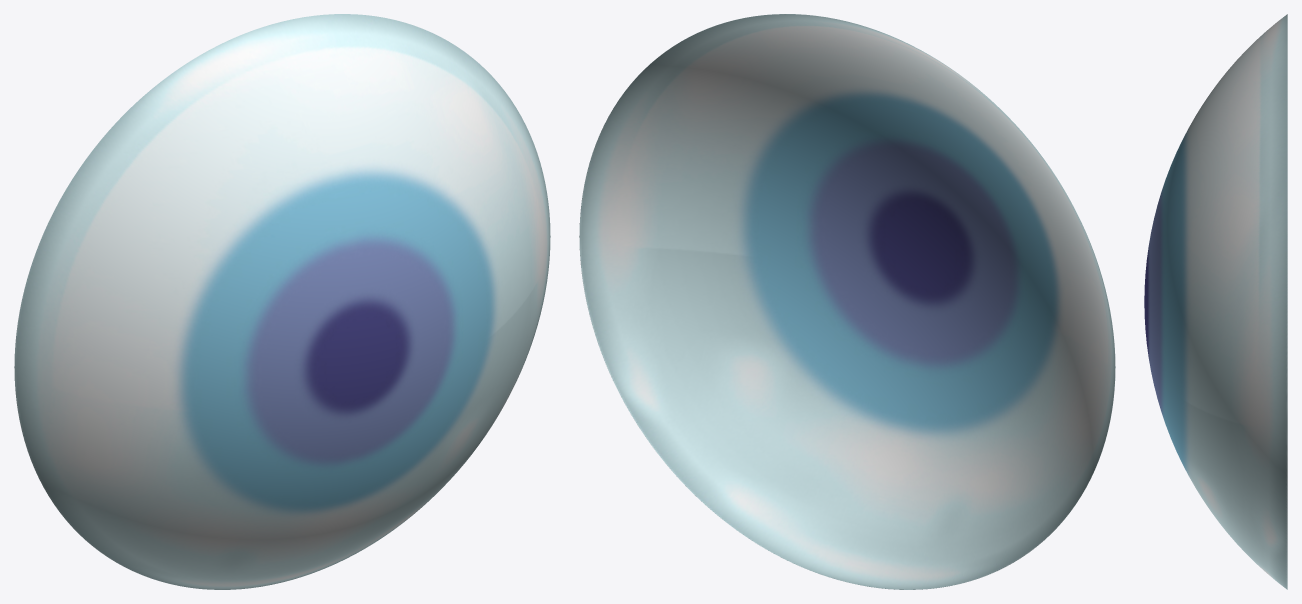
The model's file is lens_powermap.glb.
3 renders of one model, left to right at view 1: azimuth 30°, elevation 25°; view 2: azimuth 150°, elevation 25°; view 3: azimuth 270°, elevation 25°, orthographic. The views are drawn at different scales.
Visible parts, largest first — view 1: Sphere002; view 2: Sphere002; view 3: Sphere002.
Part boxes in pixels (x1=…): Sphere002: x1=14, y1=14, x2=550, y2=589; Sphere002: x1=579, y1=14, x2=1115, y2=589; Sphere002: x1=1144, y1=14, x2=1287, y2=589.
Size of the model in its own units: 0.0999 by 0.0999 by 0.0248.
1 material, 1 textured.
